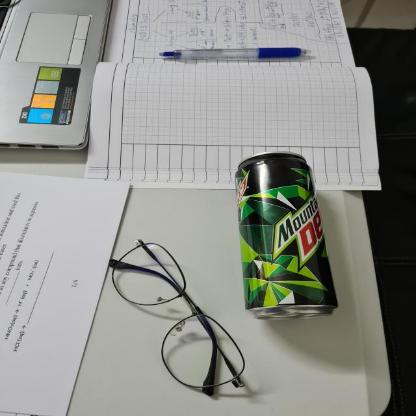Can: (234, 148, 344, 320)
